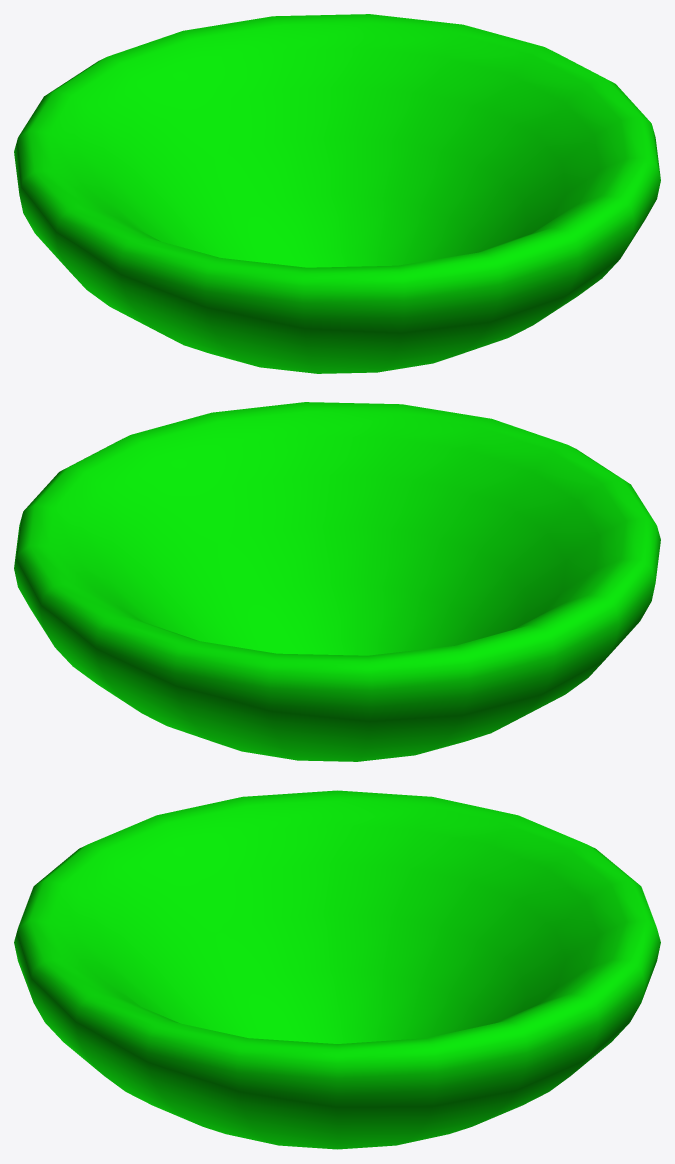
File: Bowl_msh.fbx
3 renders of one model, top to bottom at view 1: azimuth 30°, elevation 25°; view 2: azimuth 150°, elevation 25°; view 3: azimuth 270°, elevation 25°, orthographic.
Visible parts, largest first — view 1: BowlA_msh; view 2: BowlA_msh; view 3: BowlA_msh.
Boxes of the visible parts, bbox=[...] form: BowlA_msh: bbox=[14, 14, 660, 373]; BowlA_msh: bbox=[14, 402, 660, 761]; BowlA_msh: bbox=[14, 790, 660, 1149].
Bounding box in the file's own units: 30 × 9.91 × 30.
